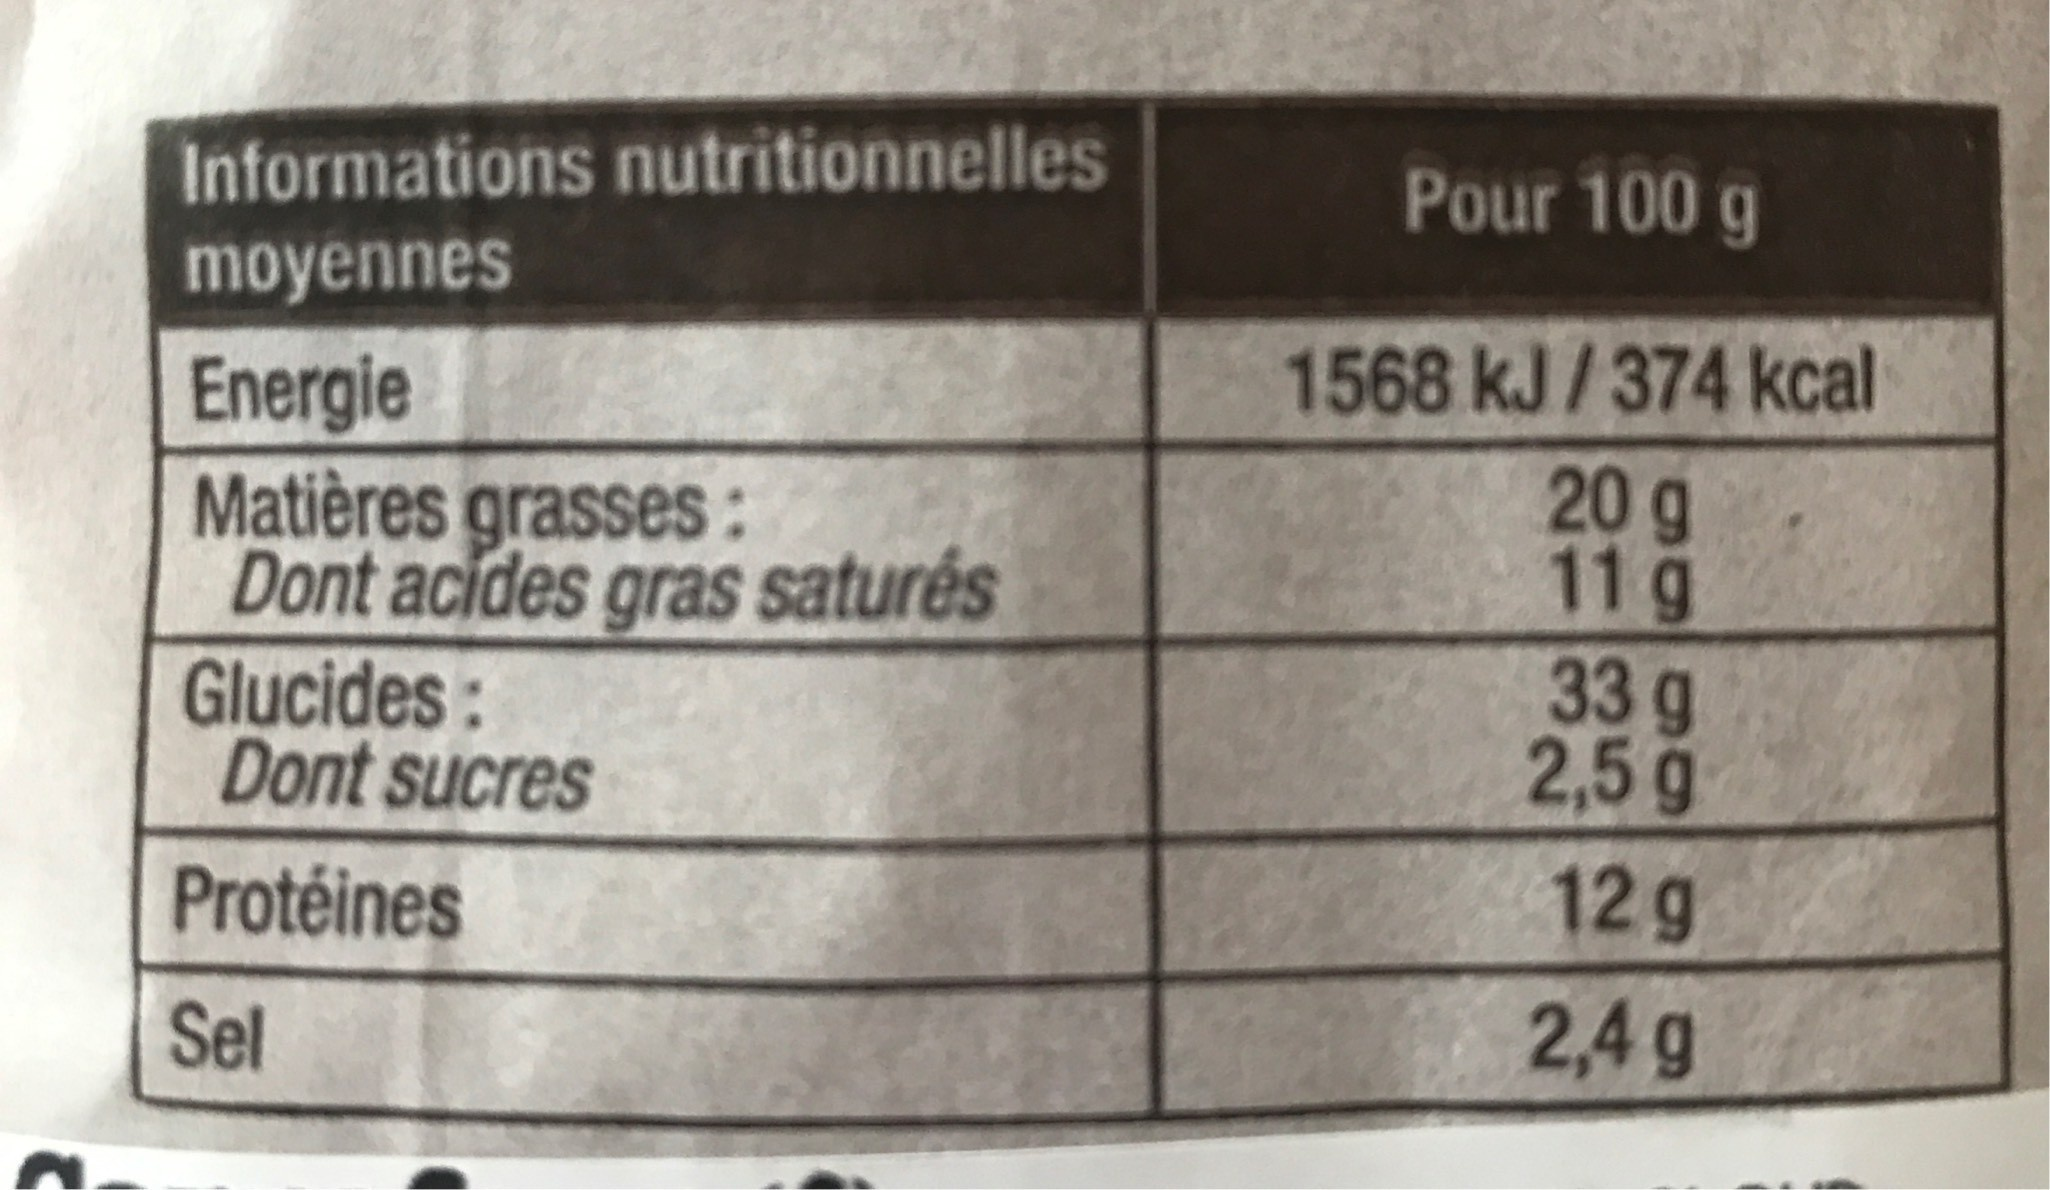column: (159, 126, 1136, 1104), (1165, 122, 1986, 1122)
table: (140, 112, 2010, 1089)
